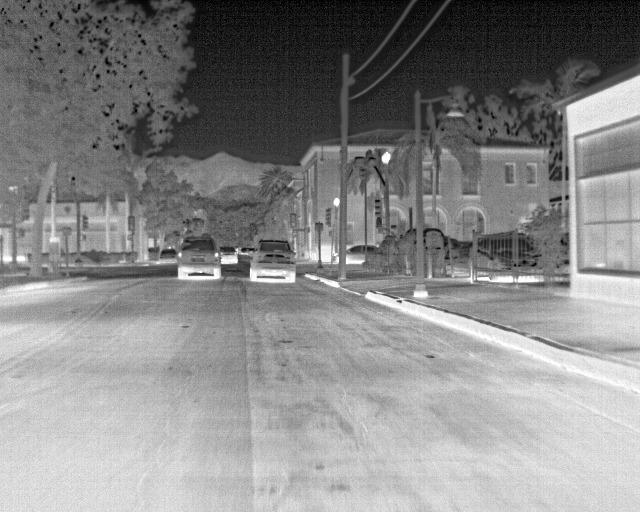car: (250, 239, 296, 282), (175, 237, 222, 278), (333, 244, 377, 264), (220, 247, 238, 264), (160, 249, 177, 260)
light: (374, 199, 381, 215), (325, 210, 330, 225), (290, 215, 296, 227), (129, 217, 134, 230), (83, 216, 88, 228), (376, 219, 381, 226), (127, 235, 131, 240), (293, 232, 298, 236), (83, 235, 86, 240)
sign: (62, 227, 72, 235), (315, 223, 322, 231)
